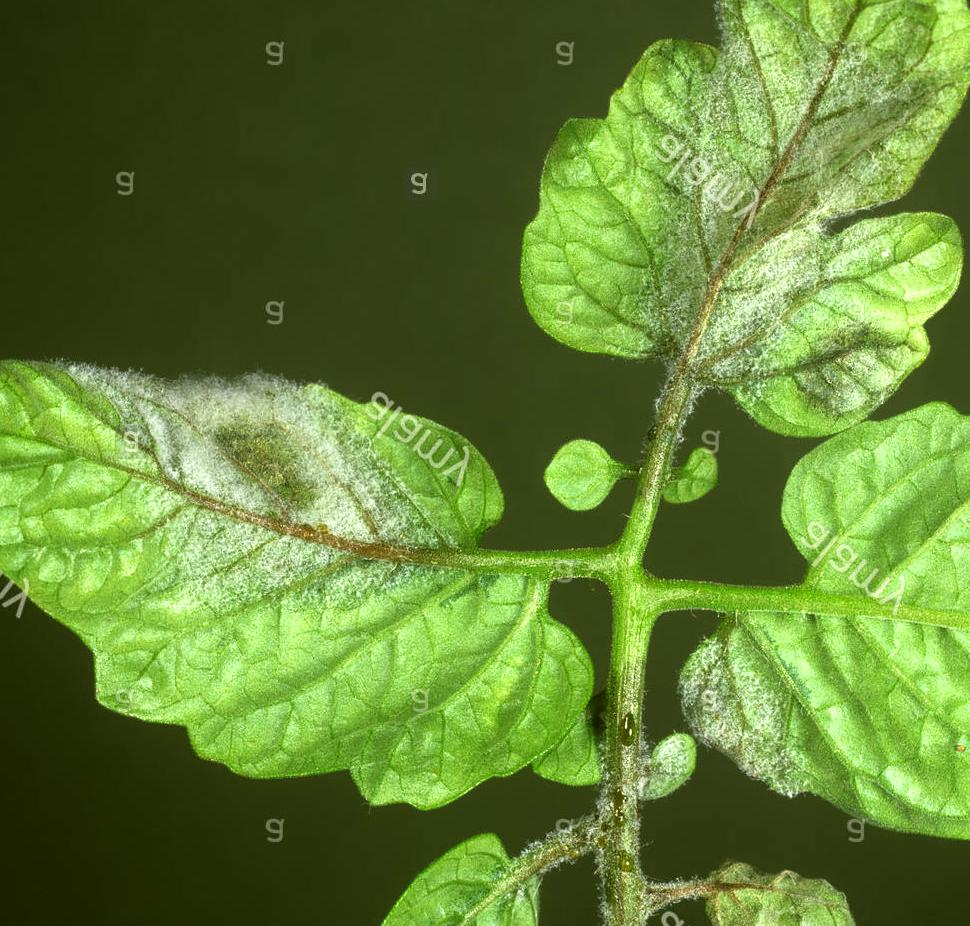Tomato leaf late blight: (0, 351, 632, 831), (520, 0, 970, 431), (665, 381, 970, 859)
